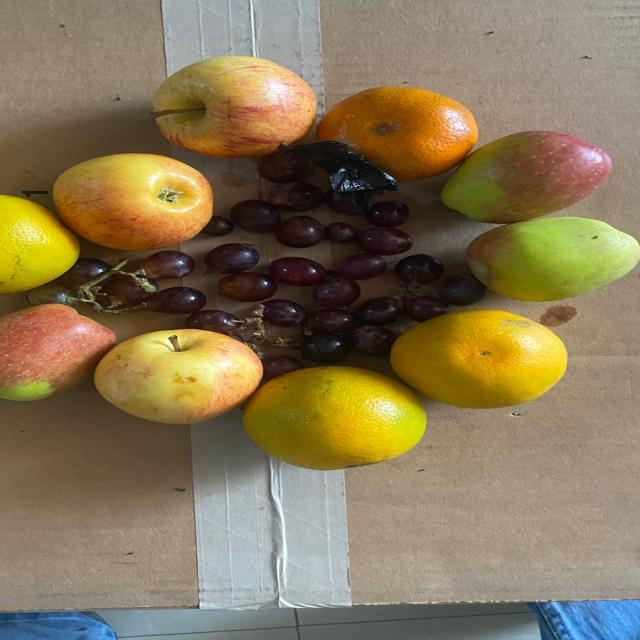bolsa_negra: (306, 134, 401, 207)
